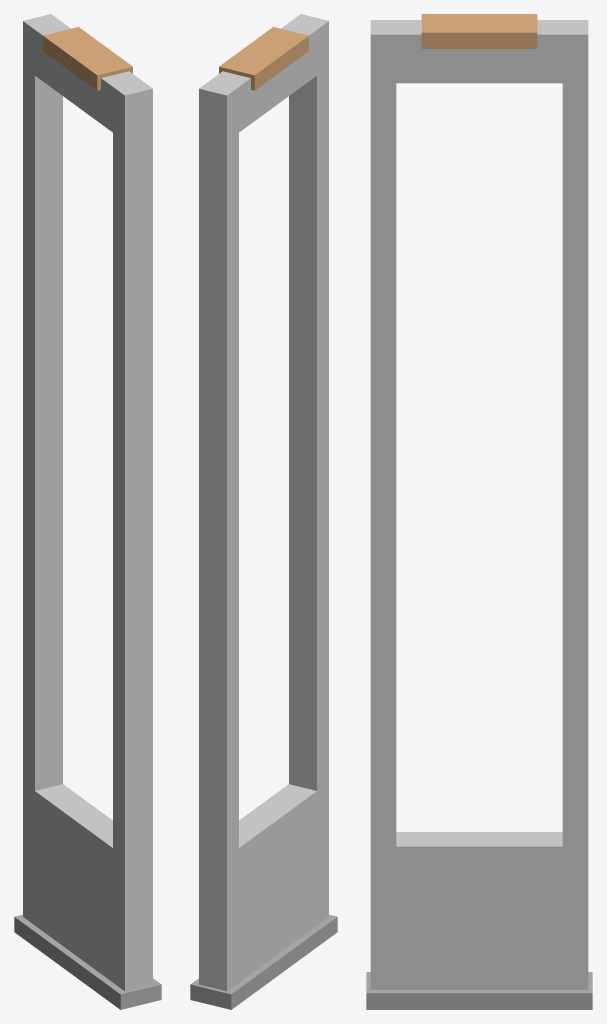
File: frame.fbx
3 views of the same model, side by side, from view 1: azimuth 30°, elevation 25°; view 2: azimuth 150°, elevation 25°; view 3: azimuth 270°, elevation 25° (orthographic). The views are drawn at different scales.
Visible parts, largest first — view 1: Cube_5; view 2: Cube_5; view 3: Cube_5.
Part boxes in pixels (box(x1,y1,x2,y2)): Cube_5: box(14, 14, 161, 1009); Cube_5: box(190, 14, 337, 1009); Cube_5: box(366, 14, 592, 1009).
Bounding box in the file's own units: 7.3 × 156 × 32.74.
